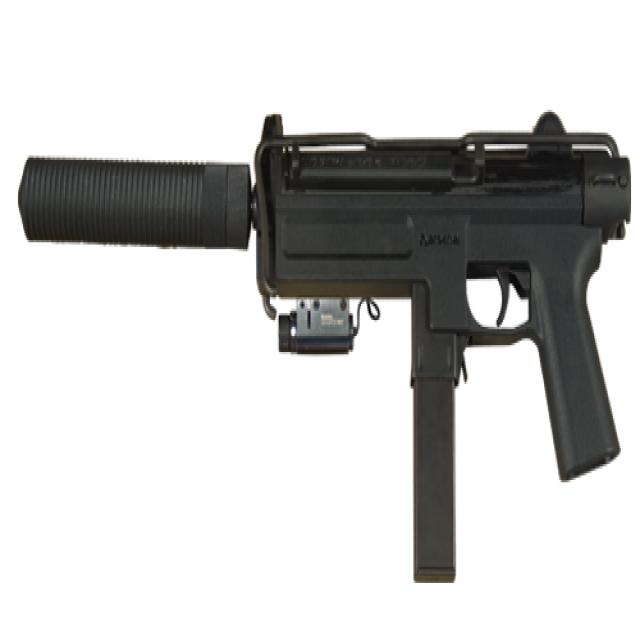Weapon: (16, 108, 634, 588)
